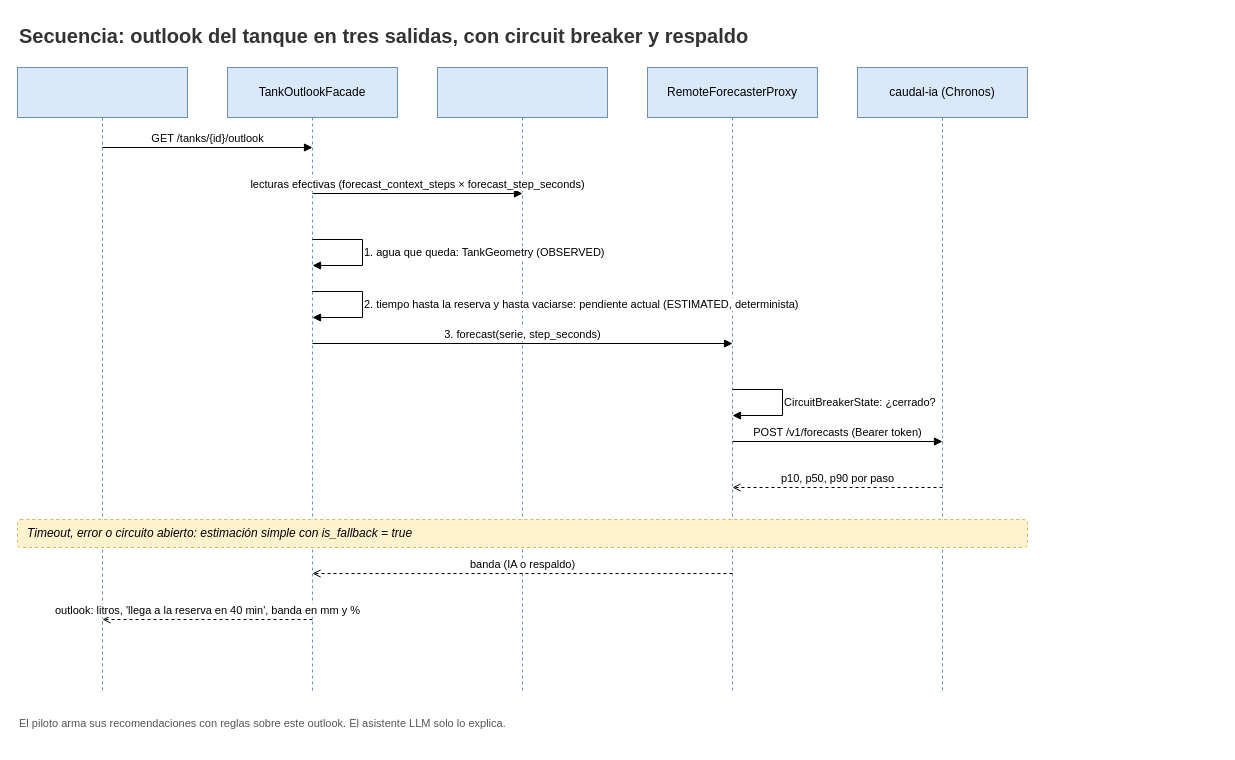
Some shapes in this 1235 by 760 pixel diagram are drawn without their labels. The shapes that lost their labels are listed below. From the top down, each one's box as (x1, y1, x2, y2) in pixels, then its label:
(16, 66, 188, 694): Usuario (PWA)
(436, 66, 608, 694): PostgreSQL
